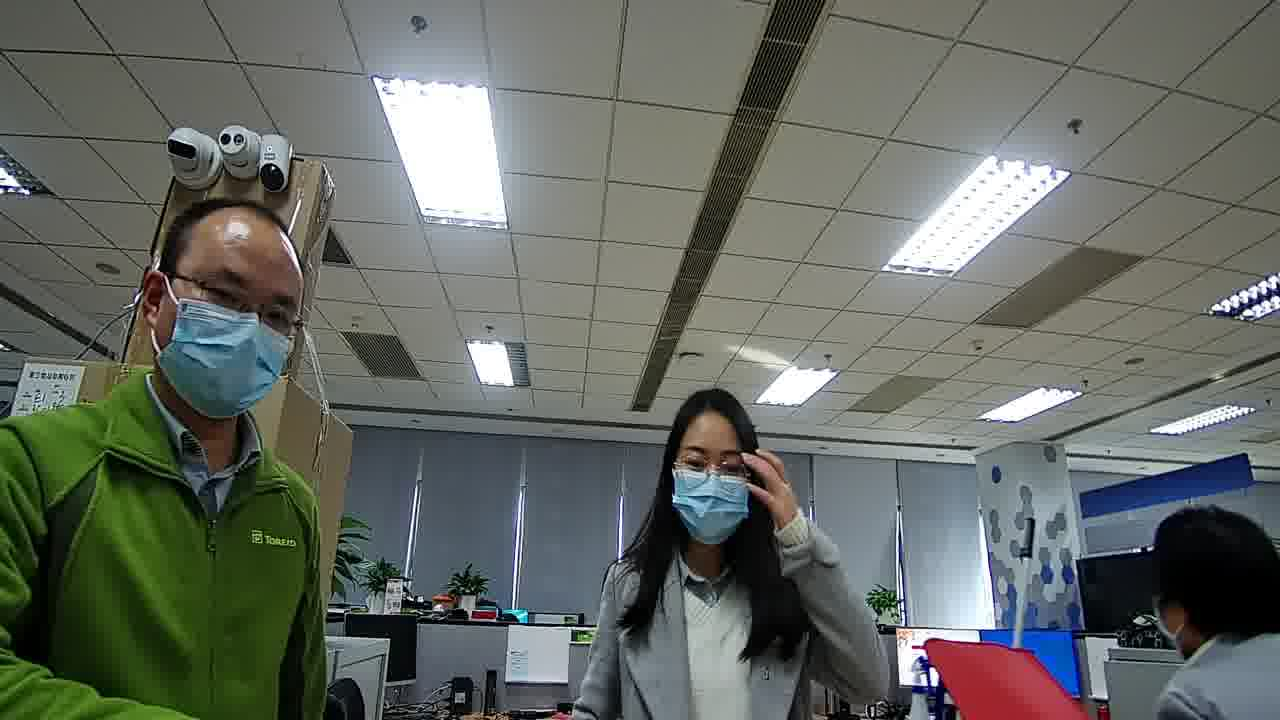face: (148, 210, 305, 422), (670, 419, 746, 542)
mask: (158, 297, 299, 418), (681, 475, 741, 541)
person: (46, 170, 355, 543), (603, 388, 819, 634), (1114, 506, 1279, 719)
